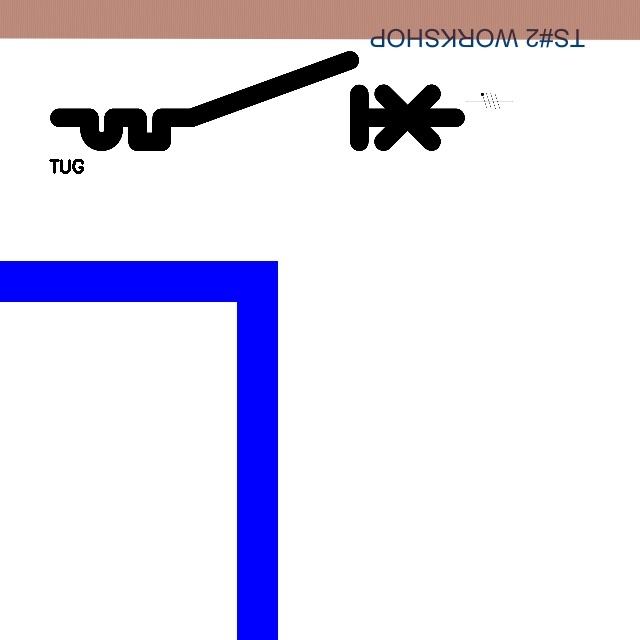interruptor_termomagnetico: (49, 50, 466, 152)
